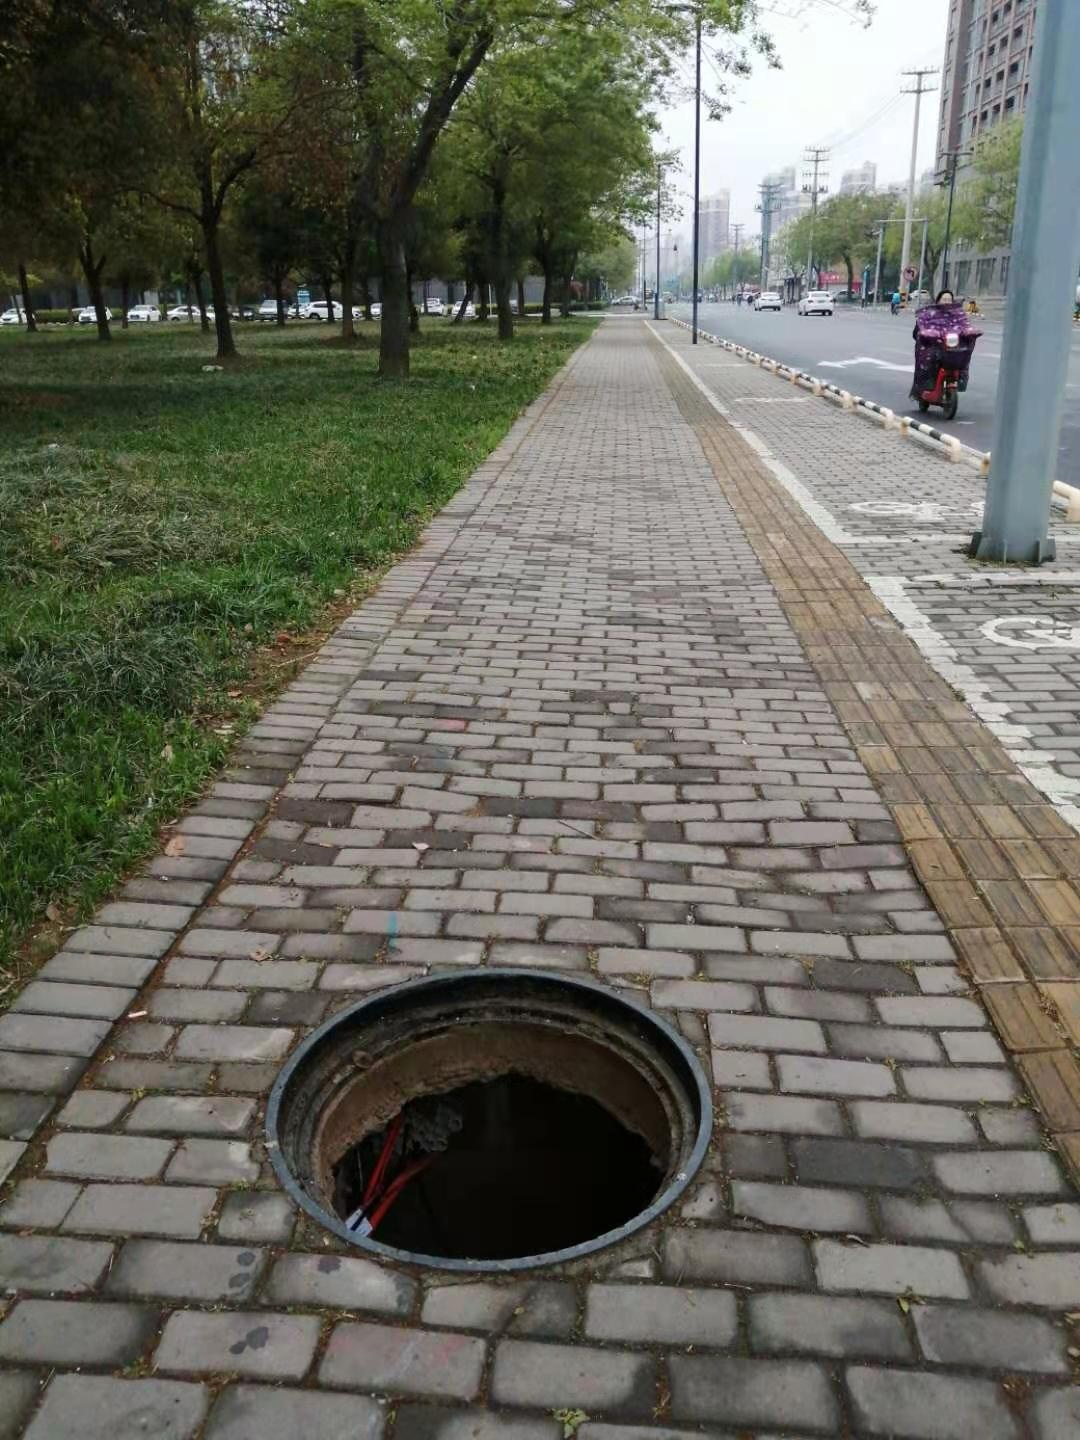lose: (261, 962, 712, 1269)
